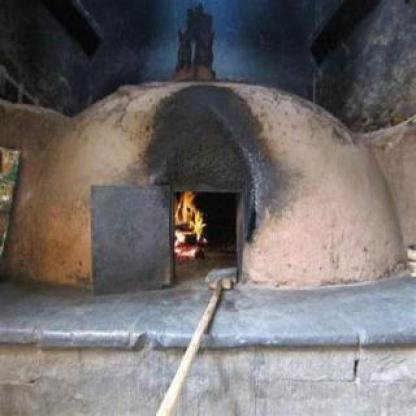Fire: (174, 185, 212, 265)
